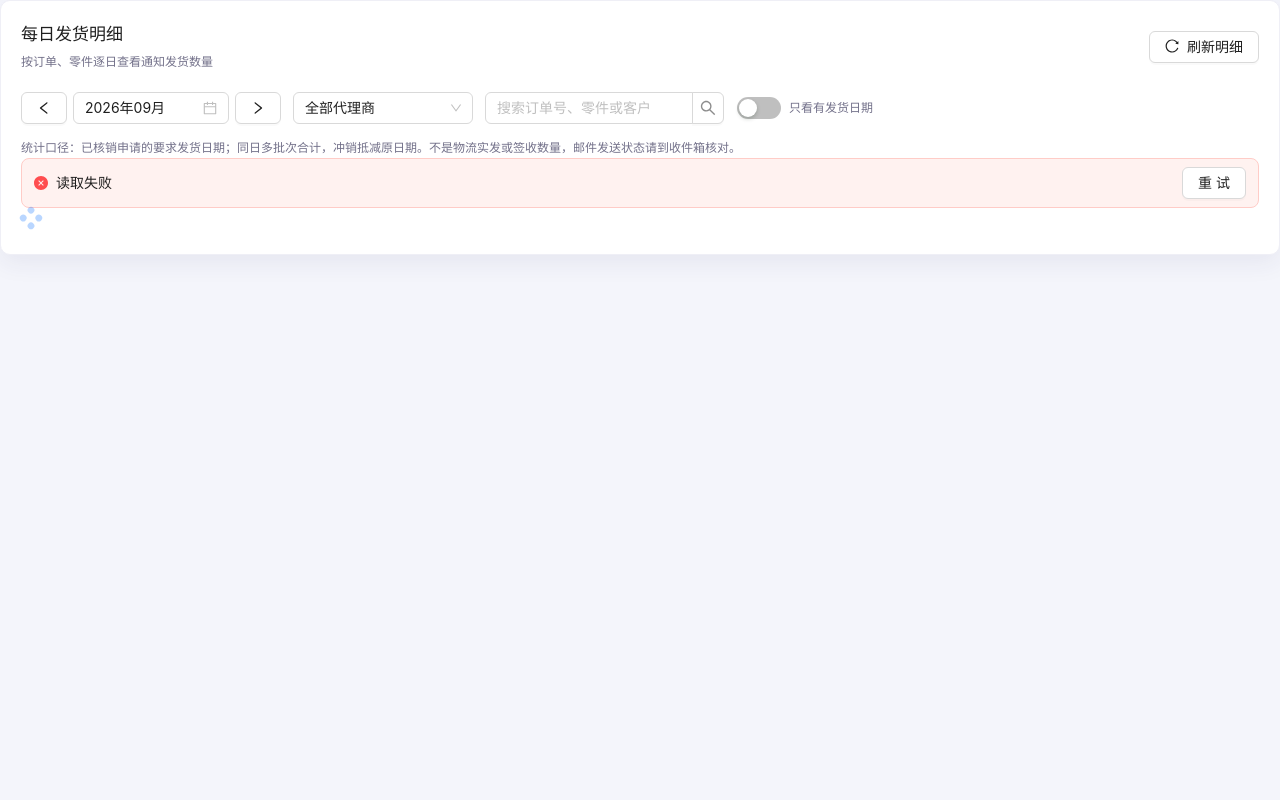
Scenario: 每日发货台账 › retries load failure without showing stale rows
This screenshot has width=1280, height=800.
Click the button "重 试": (1214, 184) [1182,168,1246,200]
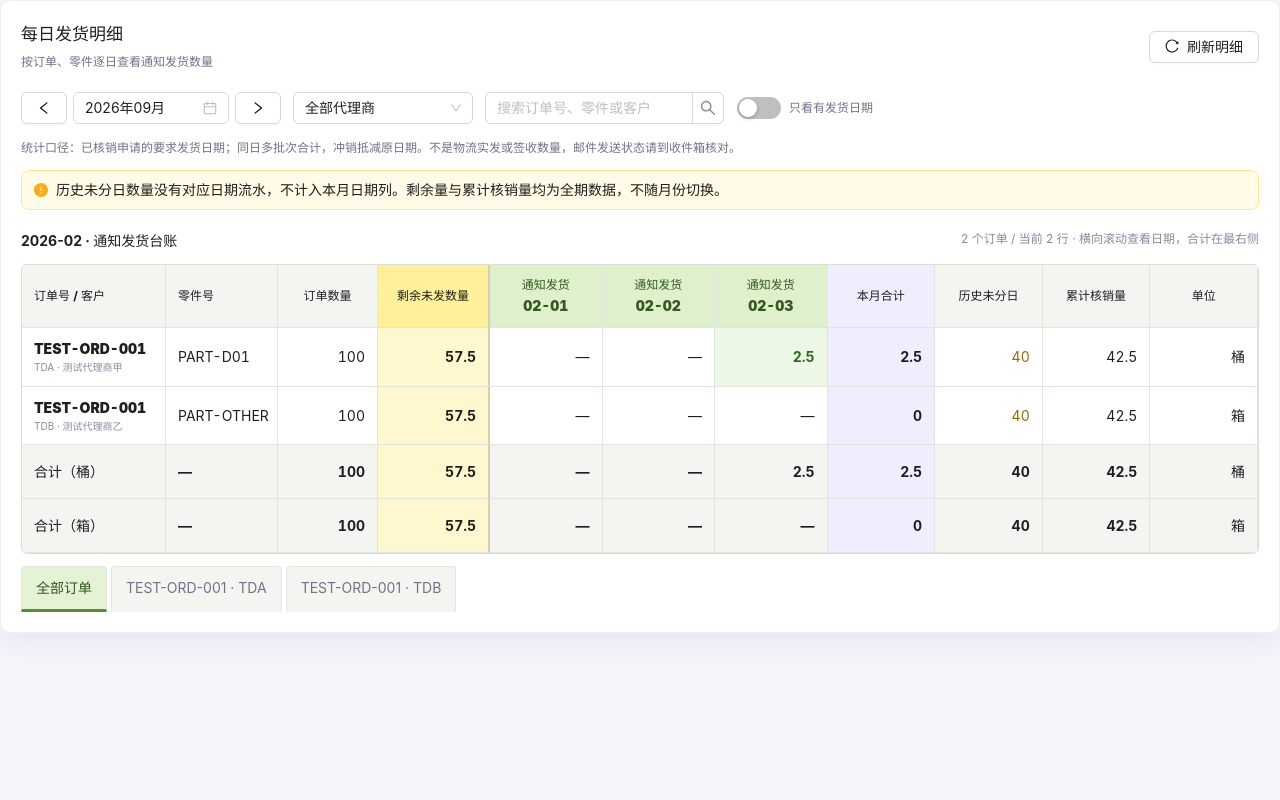
Expected: the table is shown, [22,266,1258,554]
